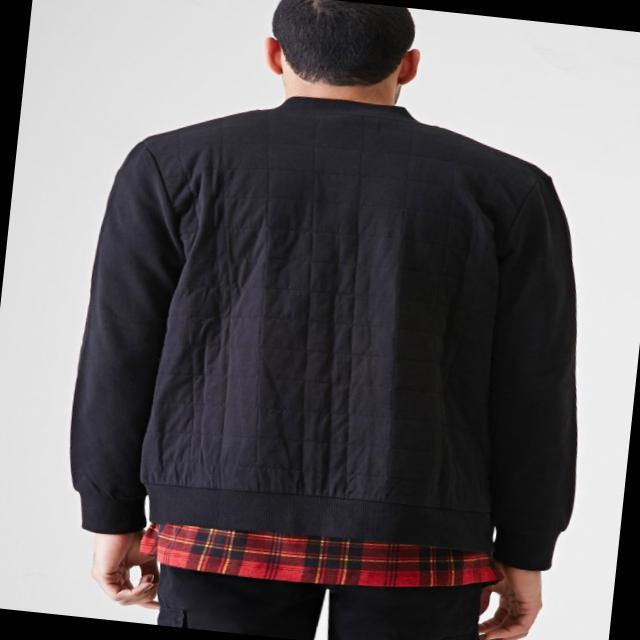Jacket: (50, 76, 612, 582)
